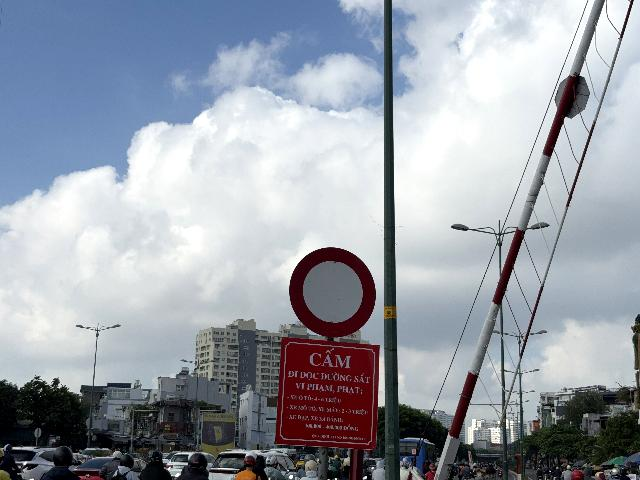duong-cam: (289, 248, 376, 337)
